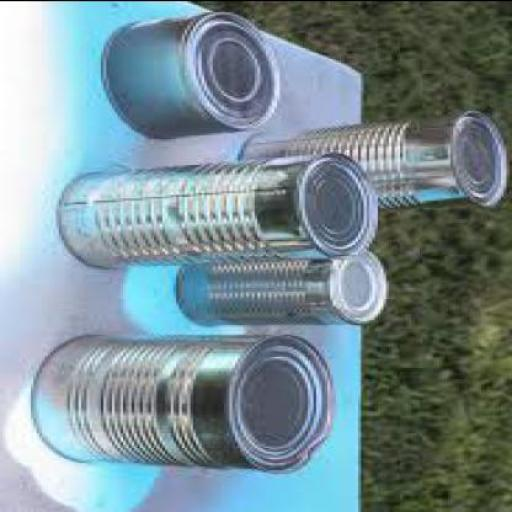metal: (31, 331, 338, 471), (58, 147, 381, 268), (240, 106, 506, 207), (100, 9, 280, 140), (179, 247, 392, 324)
